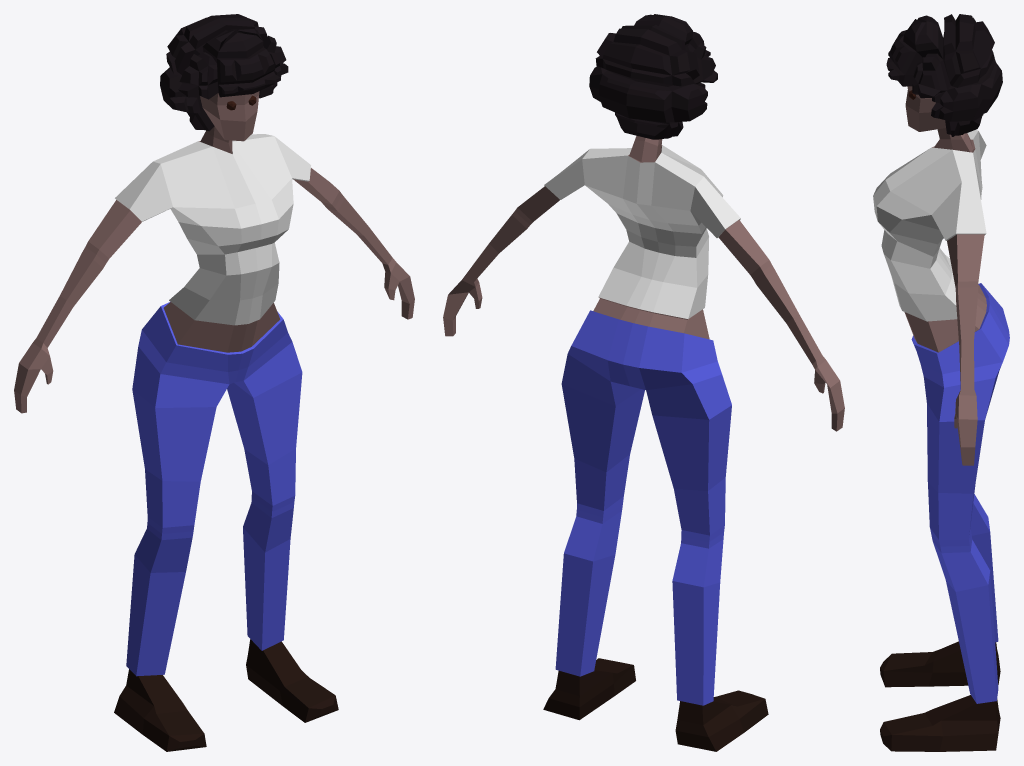
File: FullCharacter.fbx
3 renders of one model, left to right at view 1: azimuth 30°, elevation 25°; view 2: azimuth 150°, elevation 25°; view 3: azimuth 270°, elevation 25°, orthographic.
Visible parts, largest first — view 1: Icosphere; view 2: Icosphere; view 3: Icosphere.
Boxes of the visible parts, left/top/right/bottom form: Icosphere: left=14, top=14, right=414, bottom=751; Icosphere: left=443, top=14, right=844, bottom=751; Icosphere: left=873, top=14, right=1009, bottom=751.
Size of the model in its own units: 97 by 162 by 29.17.
